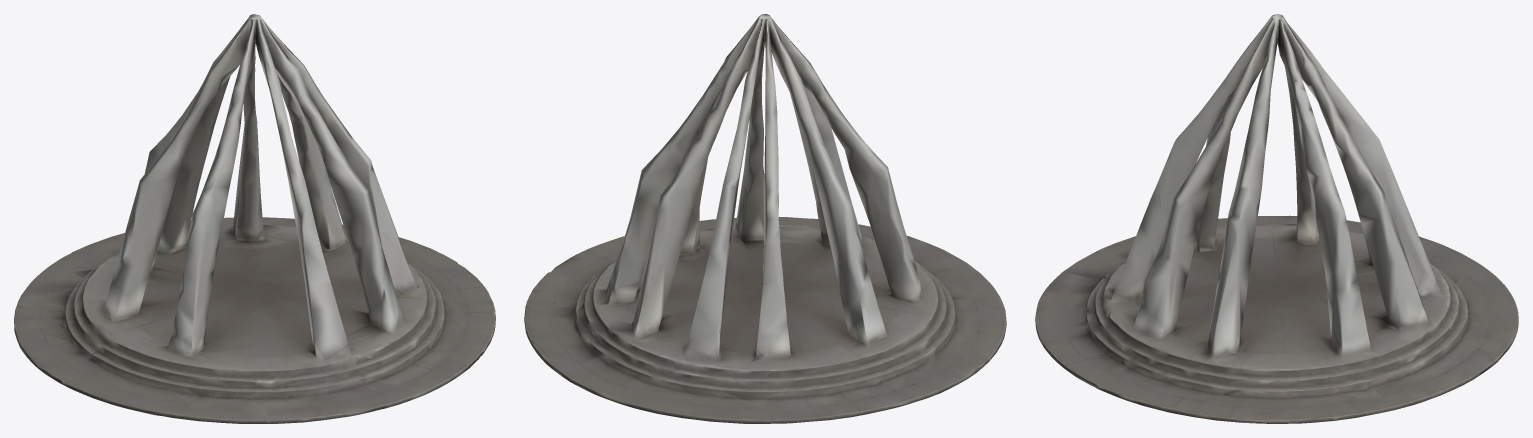
The model's file is lm_memorial.glb.
3 views of the same model, side by side, from view 1: azimuth 30°, elevation 25°; view 2: azimuth 150°, elevation 25°; view 3: azimuth 270°, elevation 25° (orthographic).
Visible parts, largest first — view 1: tripo_node_dd409da9-6ca6-4999-9fd2-e592626e21b1; view 2: tripo_node_dd409da9-6ca6-4999-9fd2-e592626e21b1; view 3: tripo_node_dd409da9-6ca6-4999-9fd2-e592626e21b1.
Part boxes in pixels (x1,y1,x2,y2): tripo_node_dd409da9-6ca6-4999-9fd2-e592626e21b1: [14, 14, 495, 423]; tripo_node_dd409da9-6ca6-4999-9fd2-e592626e21b1: [524, 14, 1006, 423]; tripo_node_dd409da9-6ca6-4999-9fd2-e592626e21b1: [1035, 14, 1518, 423].
Size of the model in its own units: 1 by 0.6955 by 0.9969.
Materials: 1 (1 with a texture image).
